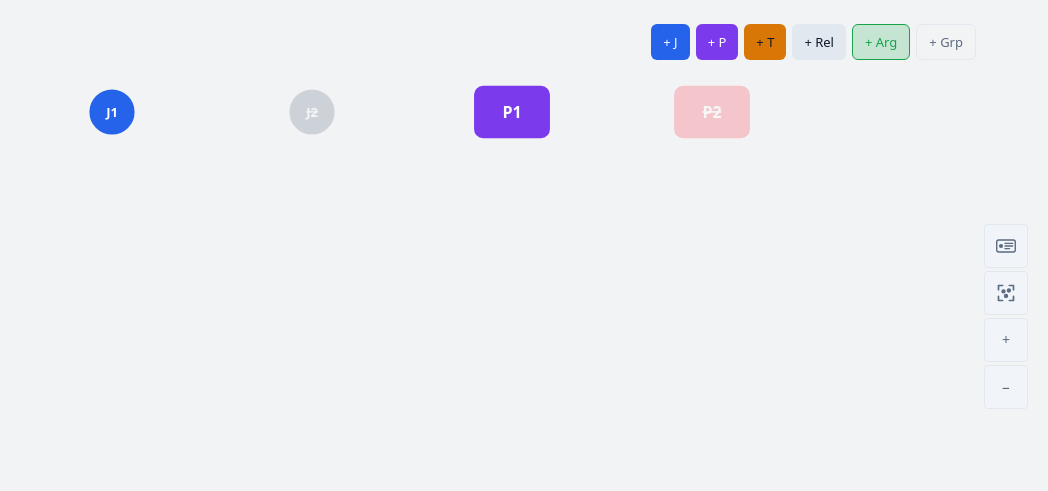
Scenario: ctrl+click relation building › offers a relation for two nodes when all relations are visible
Press the mouse on the icon "J1 P1 J2 P2" at x=524, y=212, box [12, 12, 1036, 412]
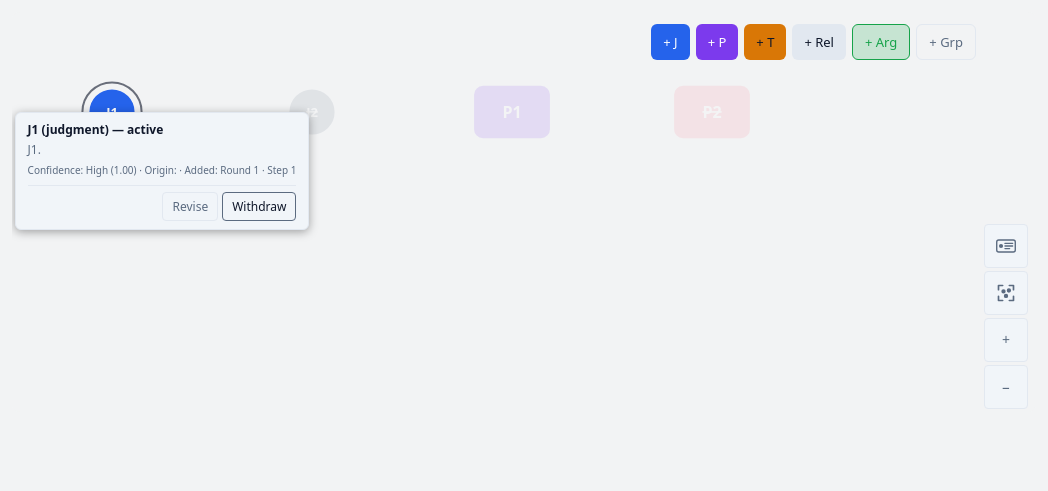
Press the mouse on the icon "J1 P1 J2 P2" at x=524, y=212, box [12, 12, 1036, 412]
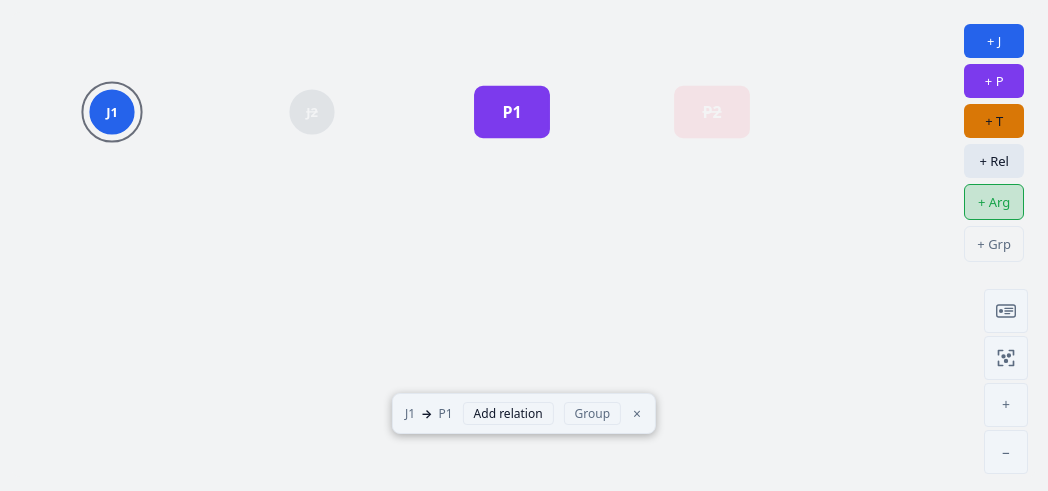
expect the button "Add relation" is shown: met, box [463, 402, 554, 425]
